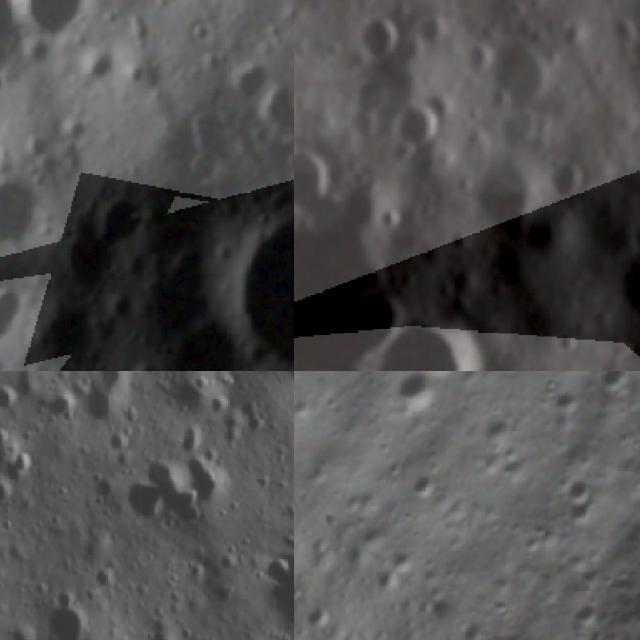crater: (223, 215, 294, 371), (474, 42, 570, 156), (64, 192, 150, 290), (370, 309, 501, 371), (6, 0, 87, 69), (294, 139, 346, 224), (378, 371, 451, 431), (342, 77, 399, 146), (549, 457, 610, 518), (22, 596, 96, 640), (540, 148, 593, 208), (392, 97, 446, 153), (353, 8, 402, 65), (0, 183, 40, 252), (0, 280, 37, 352), (541, 374, 590, 424), (222, 56, 272, 103), (609, 258, 640, 331), (584, 371, 640, 406), (275, 548, 294, 640), (372, 198, 411, 241), (626, 23, 640, 91), (555, 332, 583, 361), (51, 384, 72, 421), (526, 371, 581, 383), (0, 477, 13, 511), (120, 361, 164, 371)
